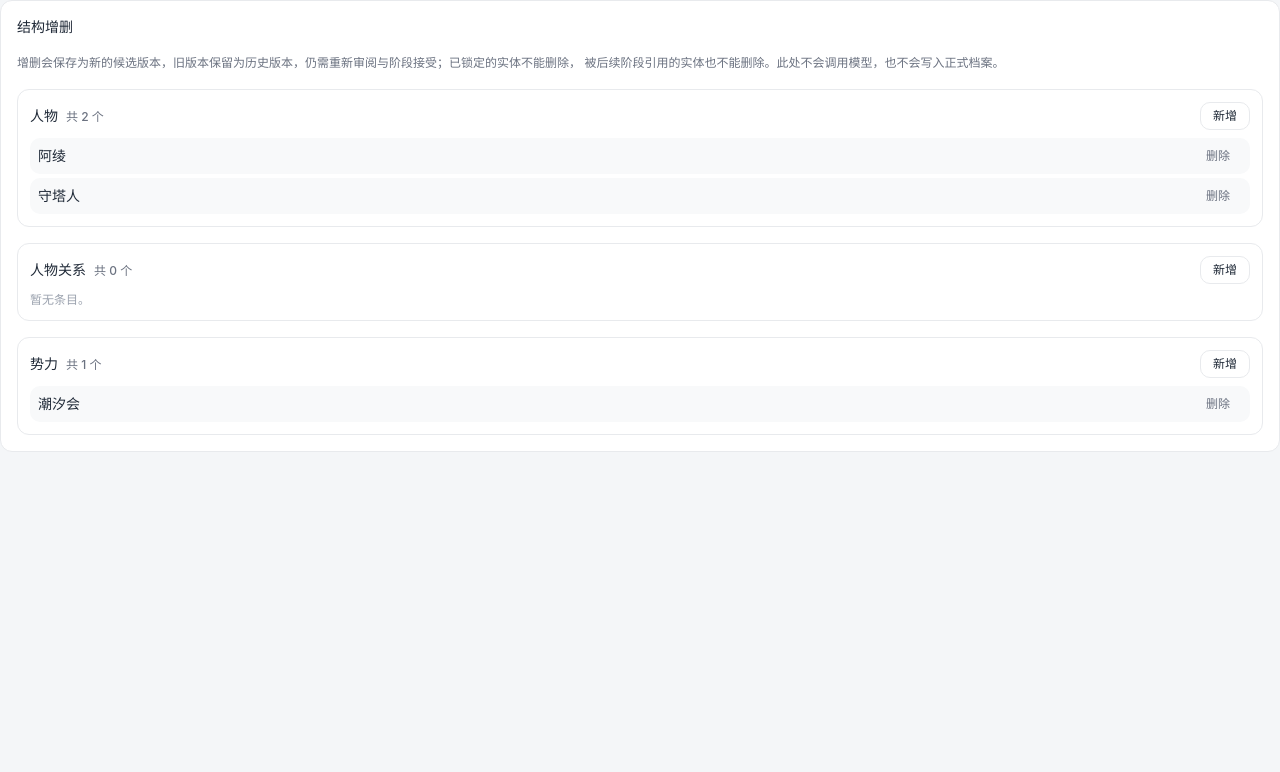
新增人物关系提交标识字段与 JSON 字段，空的选填字段不写入
Step 1. Click the button with aria-label "新增人物关系" → (1225, 270), box [1200,256,1250,284]
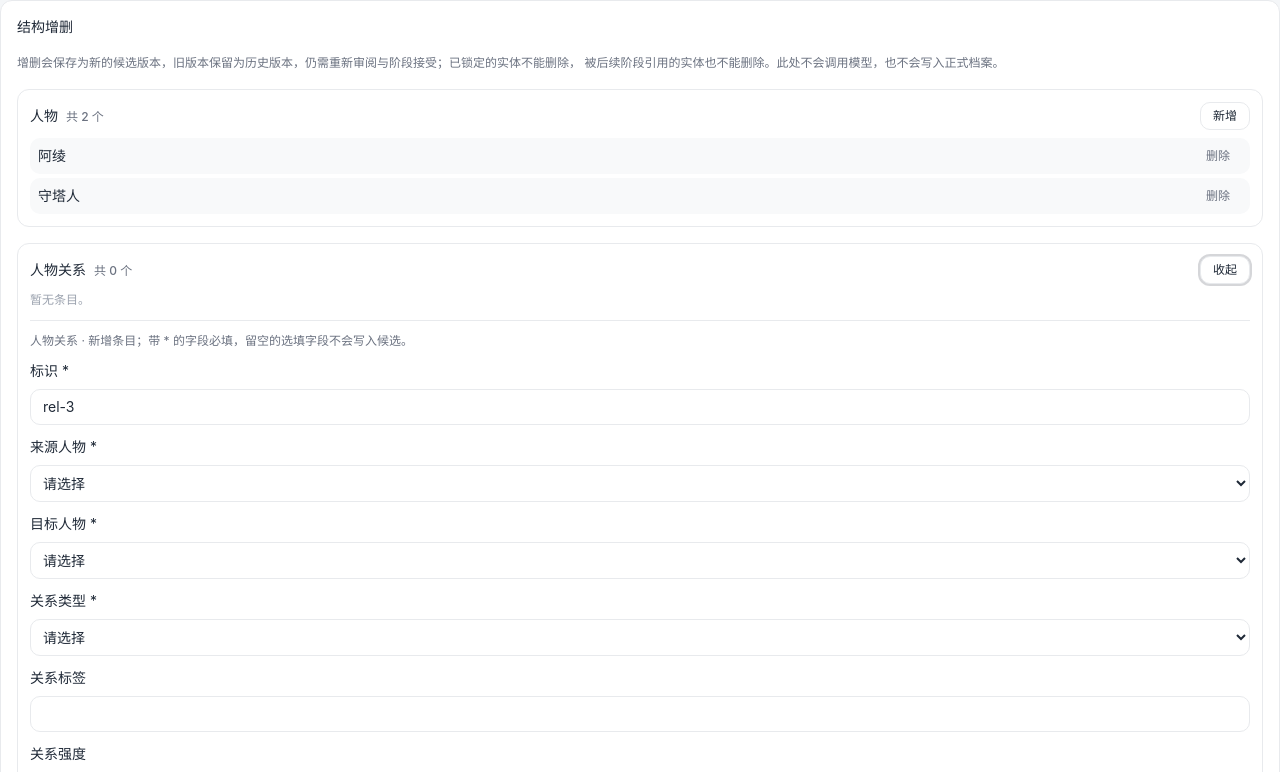
Step 2. Select "阿绫" in the dropdown labelled "来源人物 *" → (640, 483), box [30,464,1250,502]
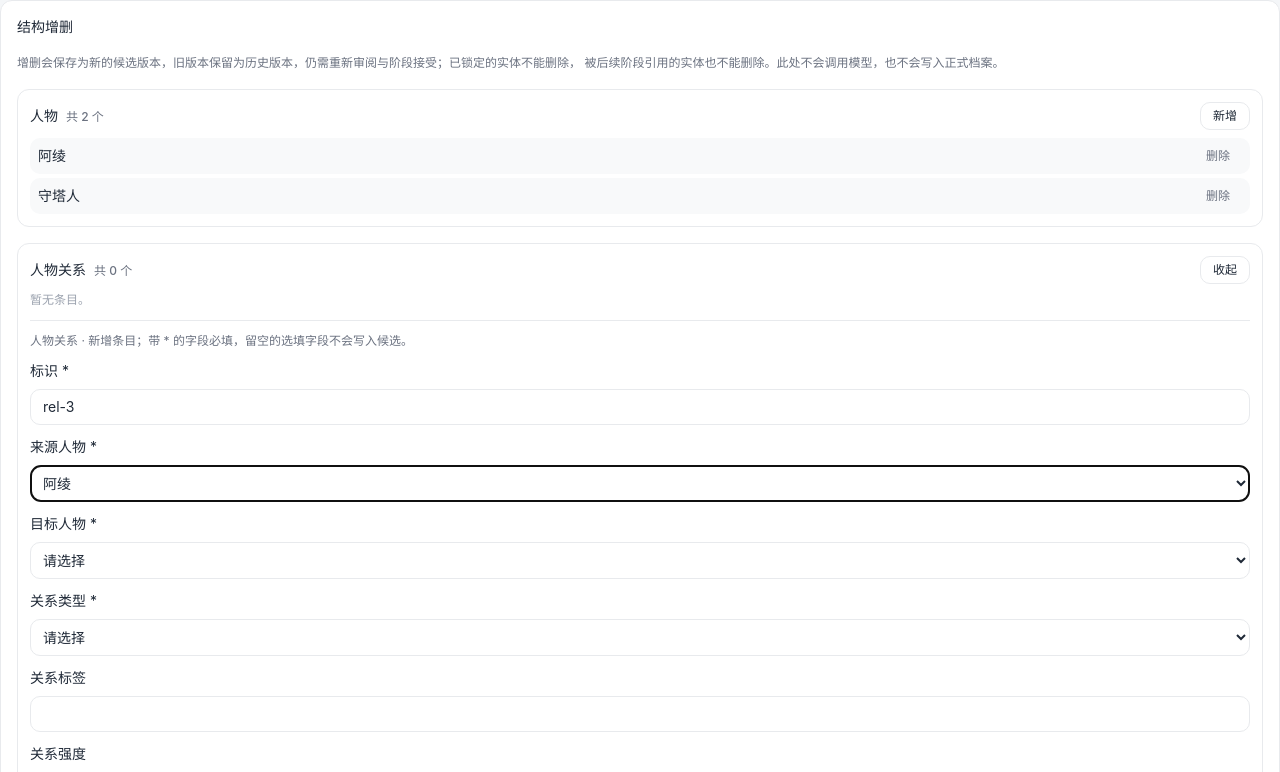
Step 3. Select "守塔人" in the dropdown labelled "目标人物 *" → (640, 560), box [30,542,1250,578]
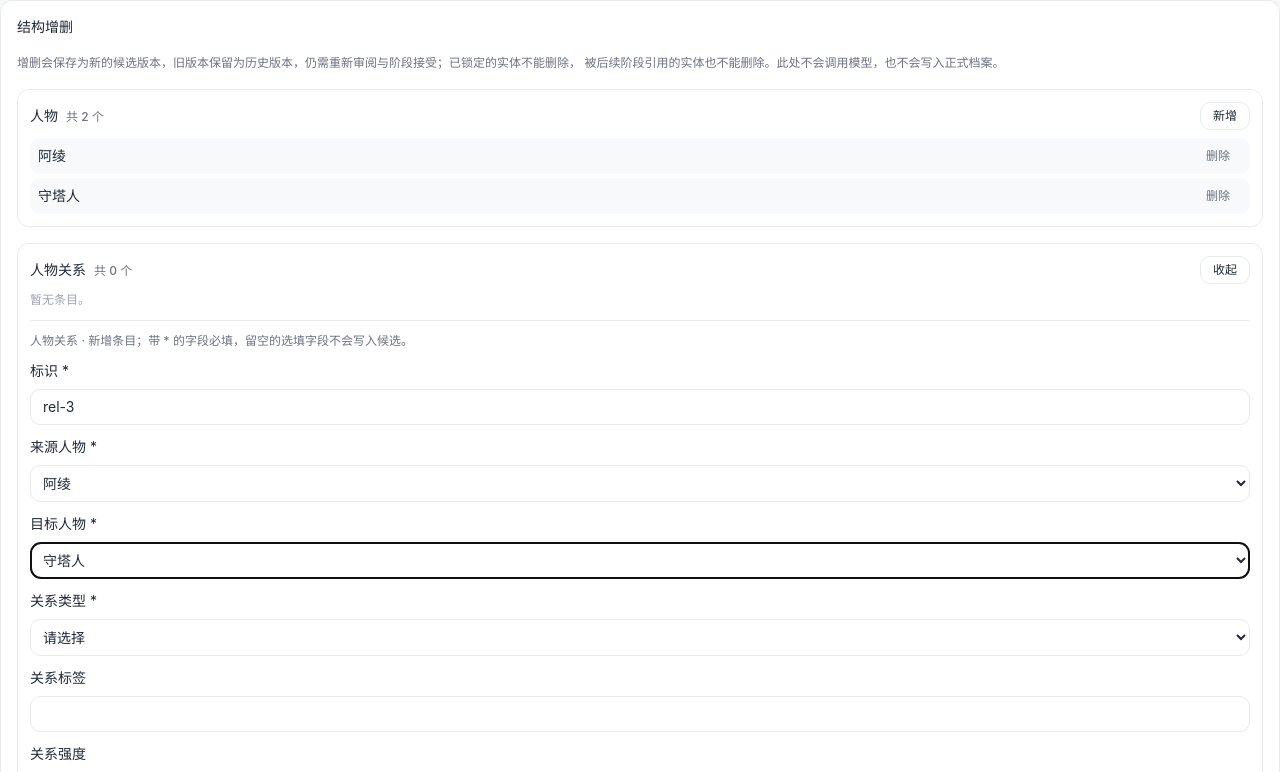
Step 4. Select "对手" in the dropdown labelled "关系类型 *" → (640, 637), box [30,618,1250,656]
(page scrolled)
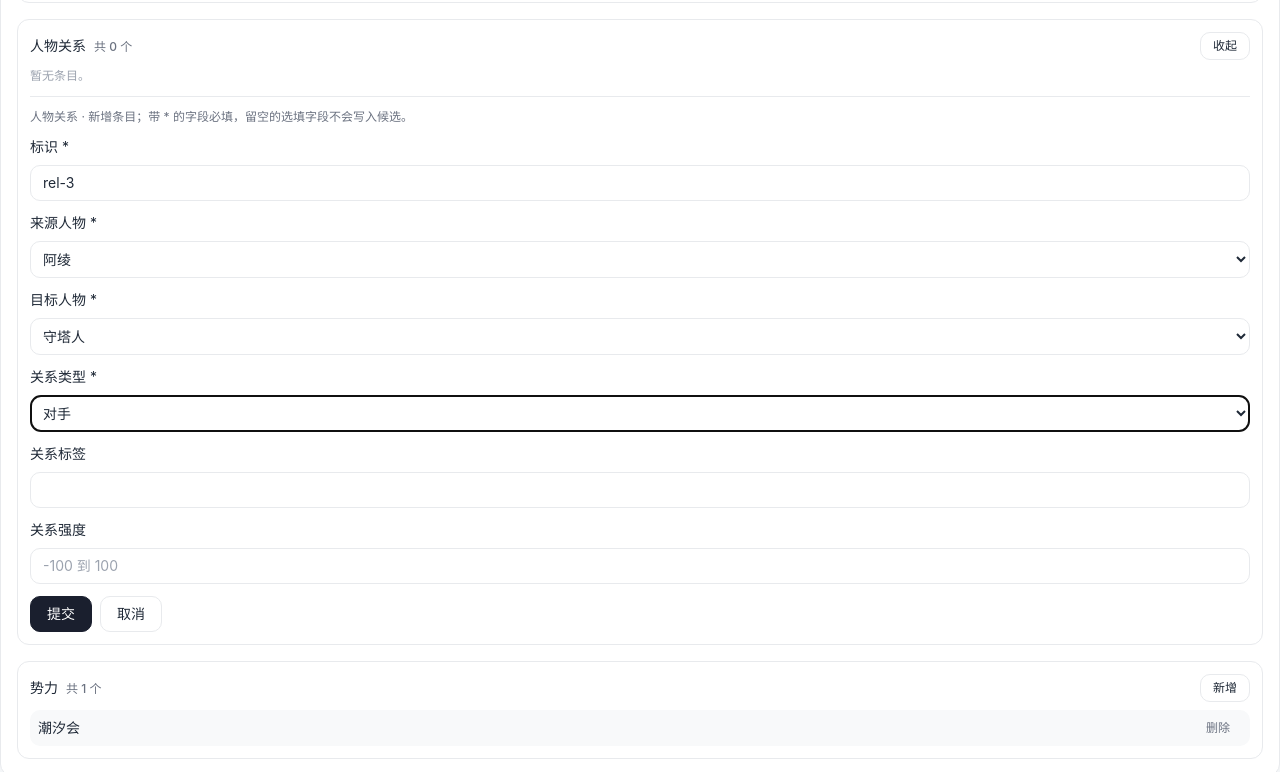
Step 5. Type "40" into the number field labelled "关系强度" → (640, 566), box [30,548,1250,584]
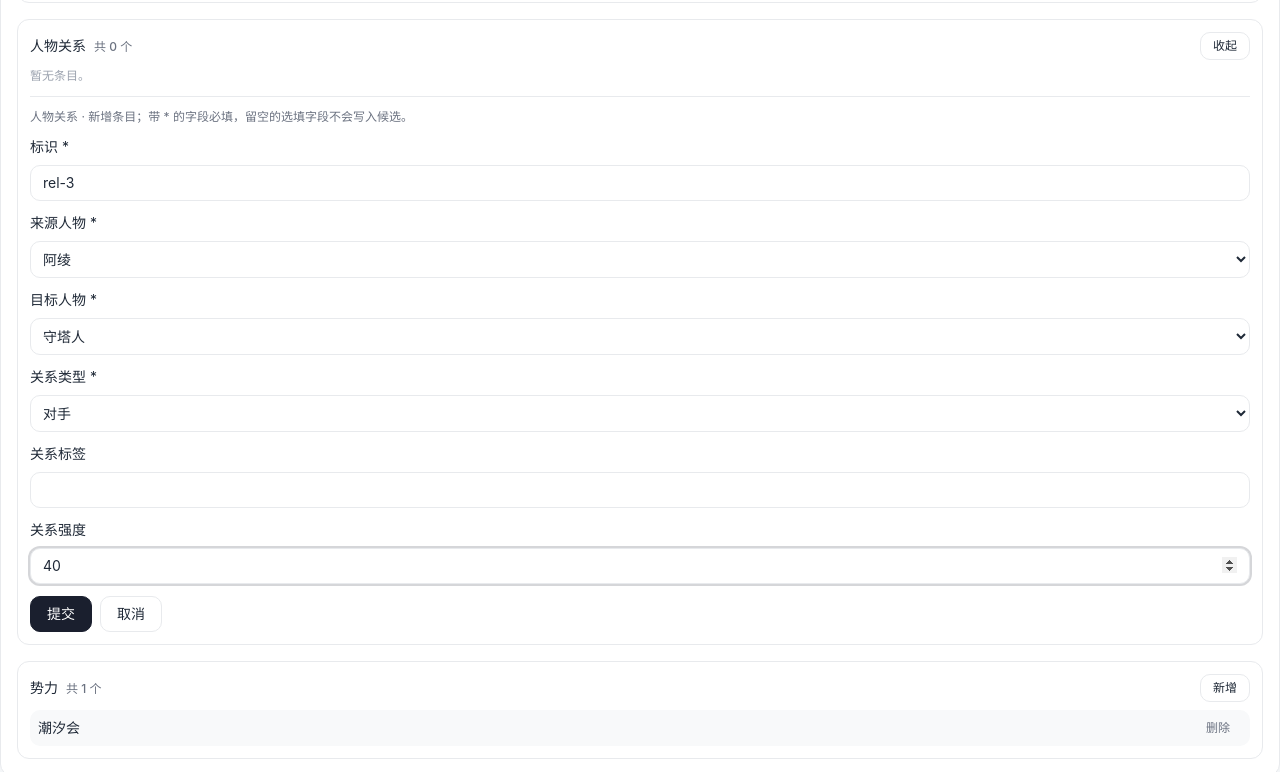
Step 6. Click the button with aria-label "提交新增人物关系" → (61, 614), box [30,596,92,632]
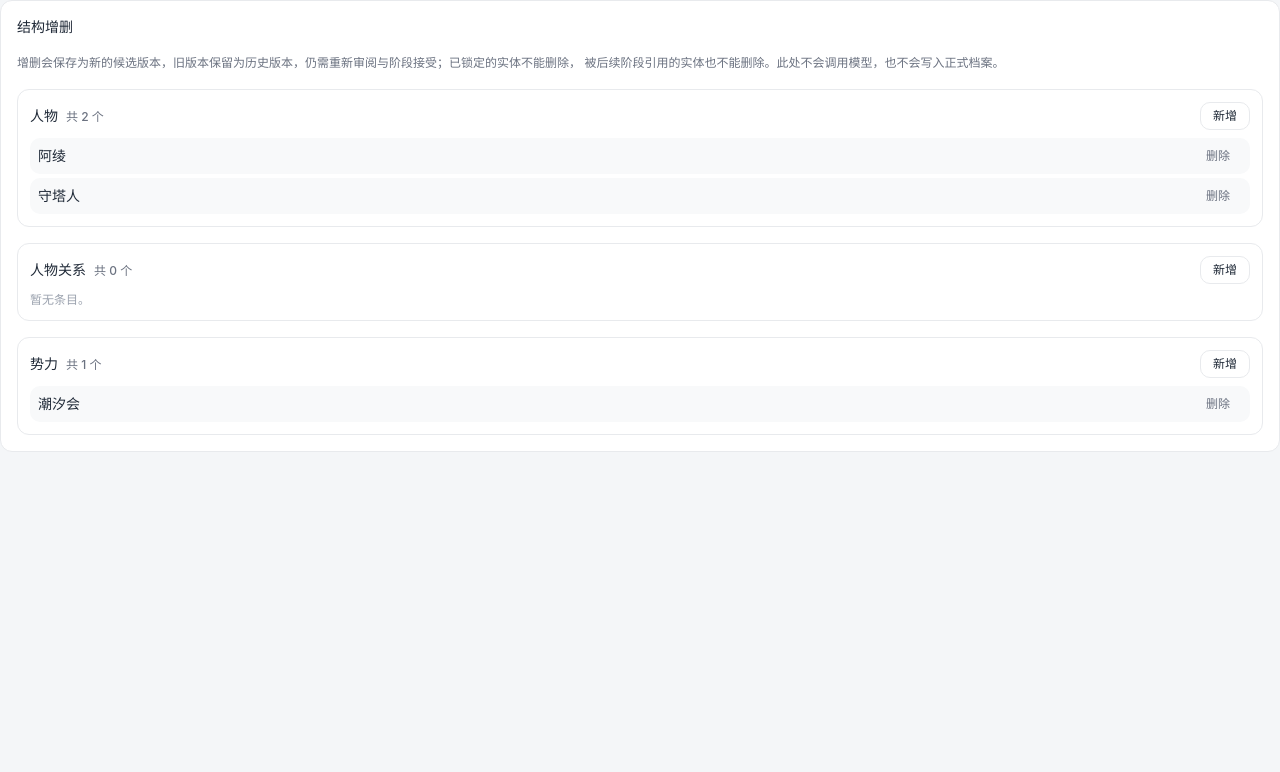
expect the label labelled "关系类型 *" is gone: met
